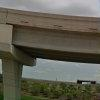Bridge: (5, 3, 94, 73)
